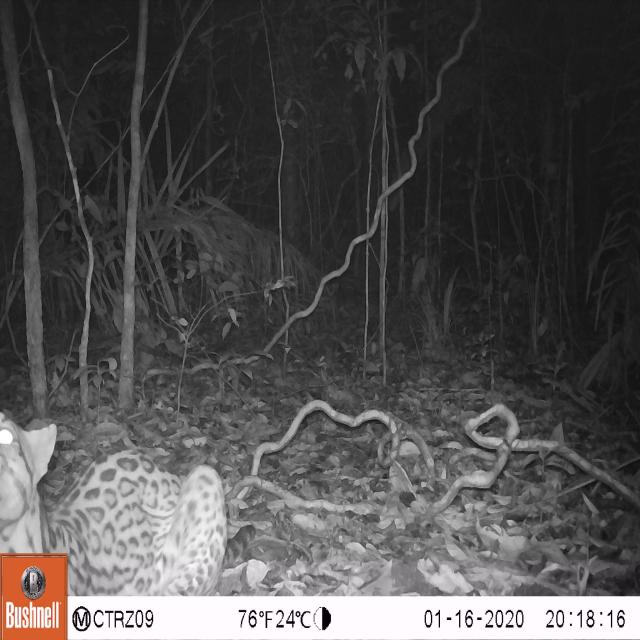Ocelote: (0, 412, 245, 596)
